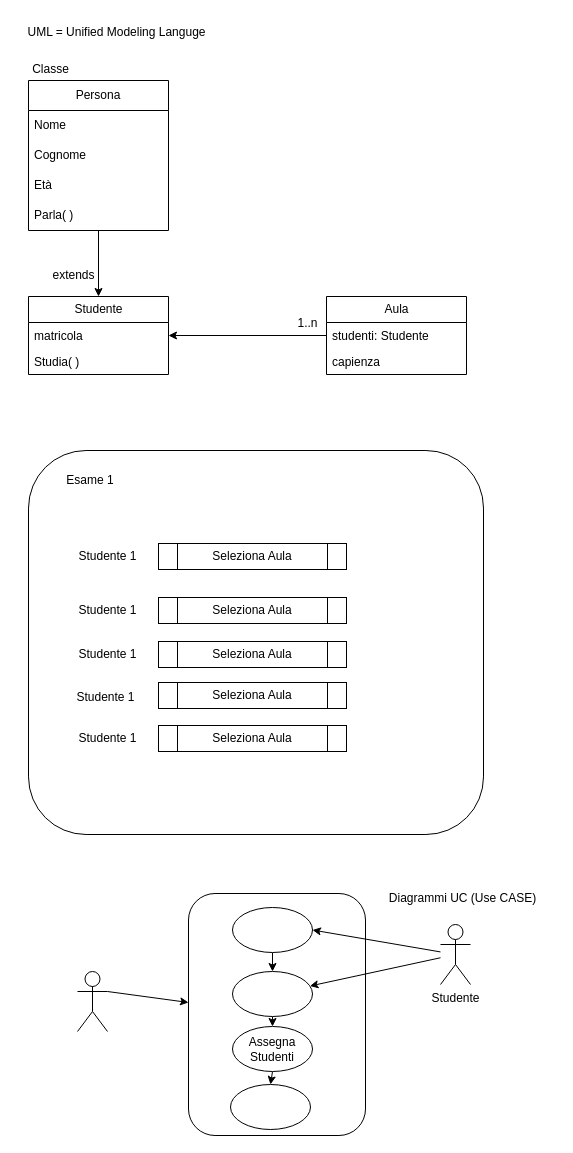
Image size: 573x1153. Some labels were removed from this diagram. The shapes that lost their labels are listed below. From the top down, each one's centre as x and y in pixels, then its label:
At pixel 272 929: "Login".
At pixel 92 1001: "Docente".
At pixel 272 993: "Selezione esame".
At pixel 270 1107: "Logout".
